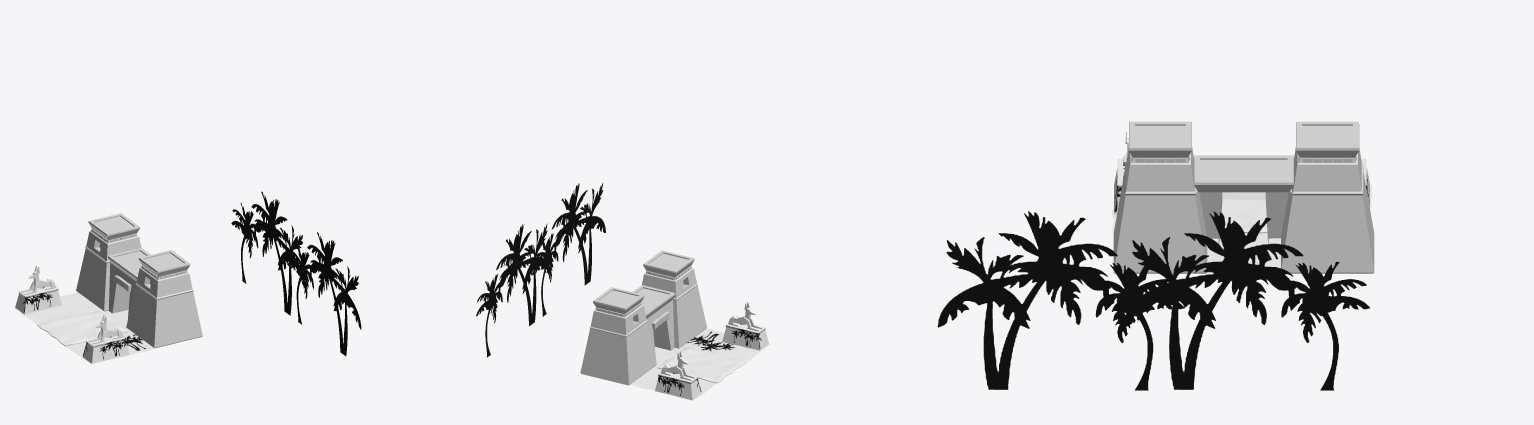
File: enternace.fbx
3 renders of one model, left to right at view 1: azimuth 30°, elevation 25°; view 2: azimuth 150°, elevation 25°; view 3: azimuth 270°, elevation 25°, orthographic. The views are drawn at different scales.
Visible parts, largest first — view 1: Enter_Enter_0, Plane001, Sand, egyptian_jackal_statue_Egyptian Jackal statue_0; view 2: Enter_Enter_0, Plane001, Sand, egyptian_jackal_statue_Egyptian Jackal statue_0; view 3: Enter_Enter_0, Plane001, Sand, egyptian_jackal_statue_Egyptian Jackal statue_0.
Boxes of the visible parts, x1,y1,x2,y2 form: Enter_Enter_0: (76, 213, 202, 348); Plane001: (231, 191, 361, 356); Sand: (14, 292, 201, 363); egyptian_jackal_statue_Egyptian Jackal statue_0: (15, 265, 129, 363); Enter_Enter_0: (580, 250, 707, 385); Plane001: (476, 183, 605, 357); Sand: (592, 328, 770, 400); egyptian_jackal_statue_Egyptian Jackal statue_0: (655, 302, 769, 400); Enter_Enter_0: (1113, 121, 1374, 273); Plane001: (937, 211, 1369, 390); Sand: (1112, 184, 1371, 273); egyptian_jackal_statue_Egyptian Jackal statue_0: (1114, 131, 1369, 214).
Size of what is drawn, in the model's own units: 1699 by 1771 by 2910.
4 materials, 3 textured.
